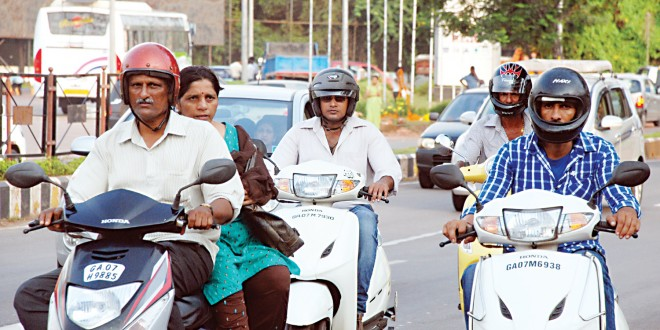helmet: (536, 66, 588, 131), (118, 41, 181, 85), (488, 64, 531, 107), (307, 68, 356, 100)
